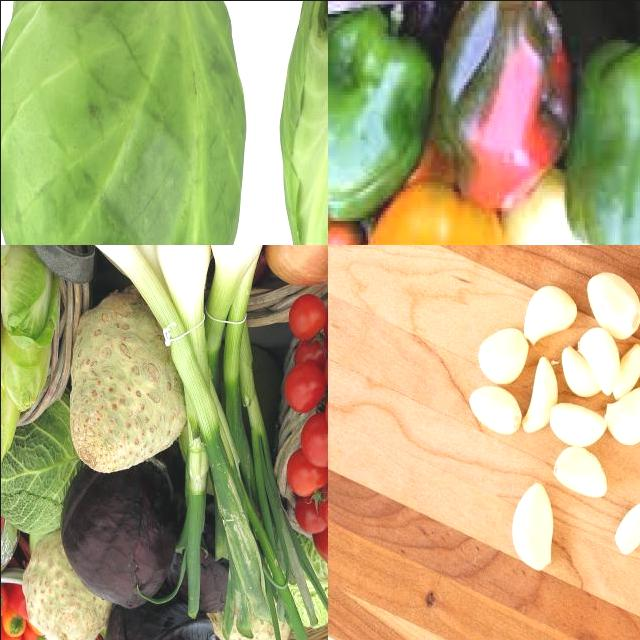bell_pepper: (433, 1, 577, 217), (328, 1, 432, 222)
cabbage: (1, 1, 251, 245)
garlic: (472, 273, 640, 571)
onion: (265, 245, 328, 288)
tomato: (287, 450, 328, 504), (285, 365, 325, 411), (290, 296, 328, 340), (303, 415, 328, 468)
